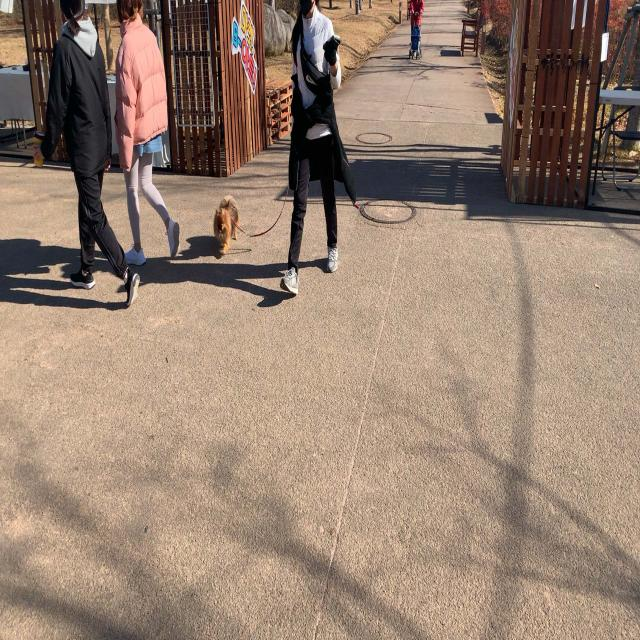Leashed_Dog: (214, 140, 306, 256)
